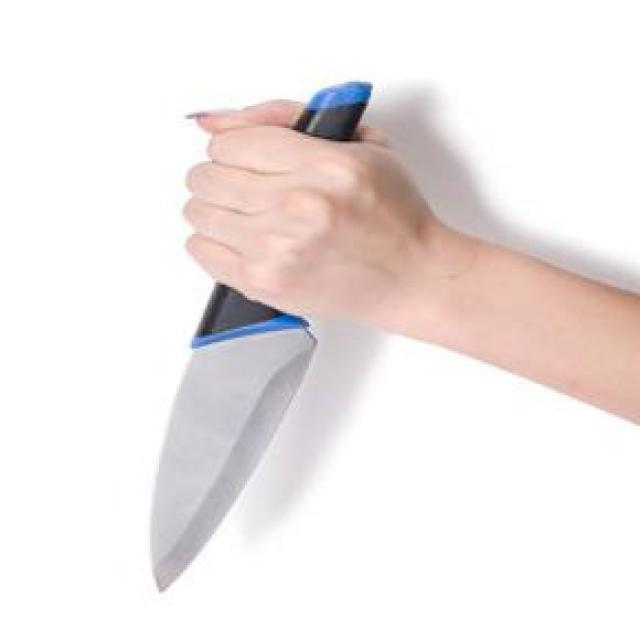knife: (96, 73, 391, 595)
